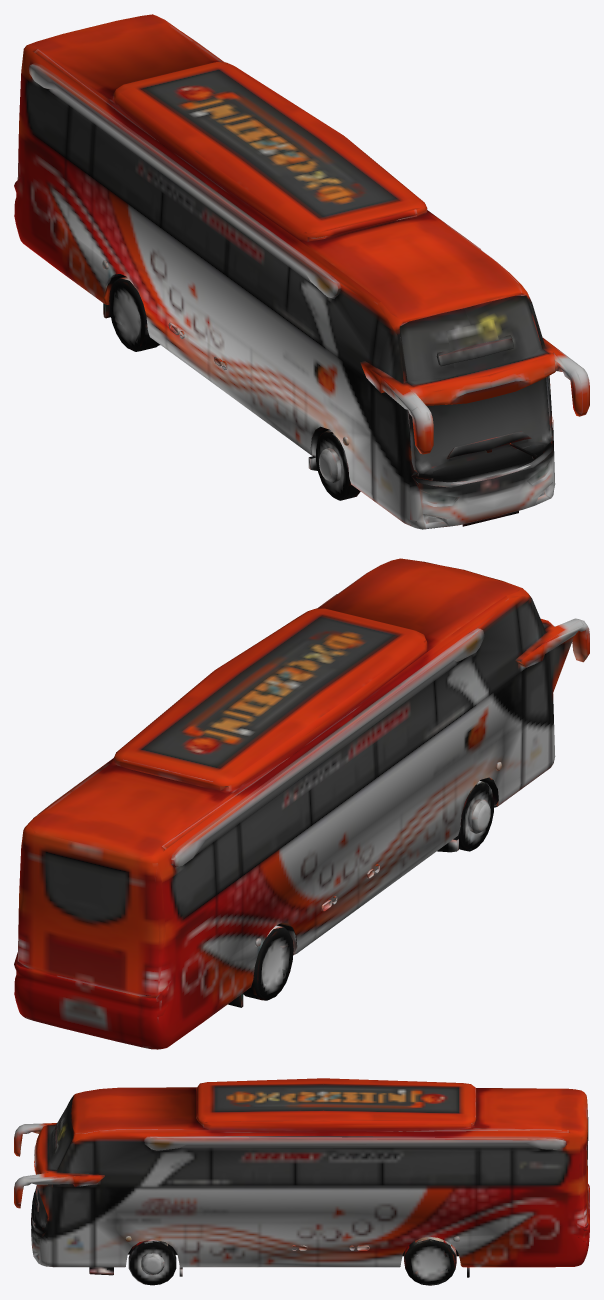
The model's file is bus.glb.
The picture shows the model from 3 angles, top to bottom: view 1: azimuth 30°, elevation 25°; view 2: azimuth 150°, elevation 25°; view 3: azimuth 270°, elevation 25°; orthographic projection. The views are drawn at different scales.
Parts seen in each view (by area): view 1: tripo_node_f4d65705; view 2: tripo_node_f4d65705; view 3: tripo_node_f4d65705.
Boxes of the visible parts, <box> form: tripo_node_f4d65705: <box>14,14,589,529</box>; tripo_node_f4d65705: <box>14,558,589,1049</box>; tripo_node_f4d65705: <box>14,1078,589,1285</box>.
Size of the model in its own units: 23.74 by 31.45 by 100.
Materials: 1 (1 with a texture image).
